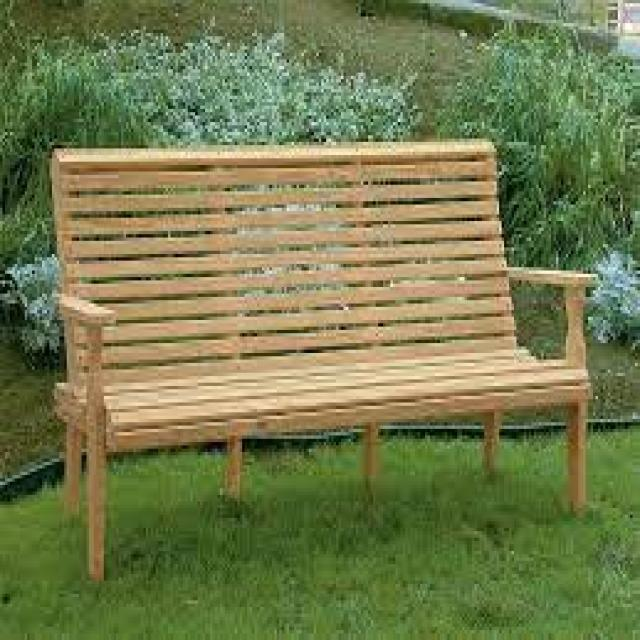Woods: (49, 139, 593, 587)
